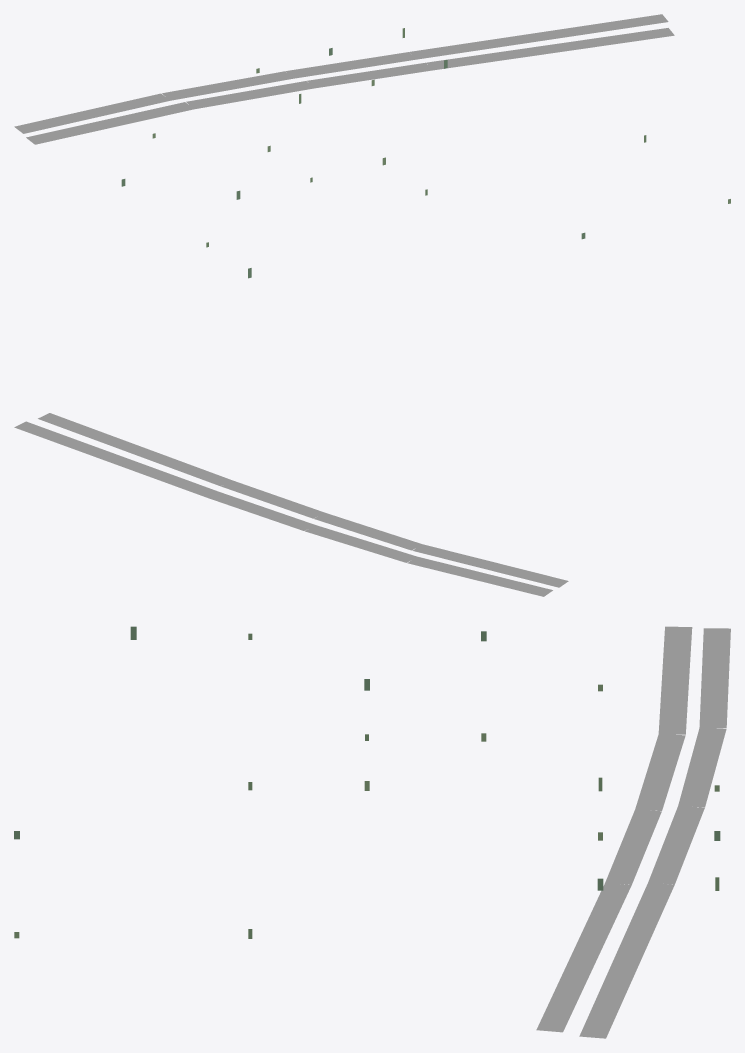
3 renders of one model, top to bottom at view 1: azimuth 30°, elevation 25°; view 2: azimuth 150°, elevation 25°; view 3: azimuth 270°, elevation 25°, orthographic. The views are drawn at different scales.
Size of the model in its own units: 498 by 10.34 by 369.
